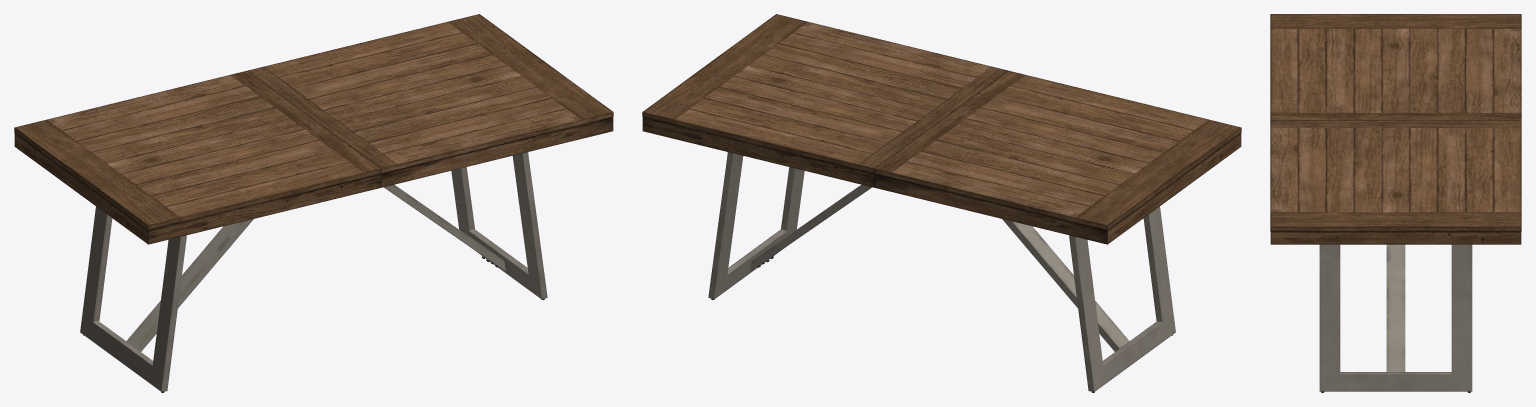
File: abo-B07B874GDK.glb
3 views of the same model, side by side, from view 1: azimuth 30°, elevation 25°; view 2: azimuth 150°, elevation 25°; view 3: azimuth 270°, elevation 25° (orthographic). The views are drawn at different scales.
Bounding box in the file's own units: 1.87 × 0.757 × 0.931.
1 material, 1 textured.
